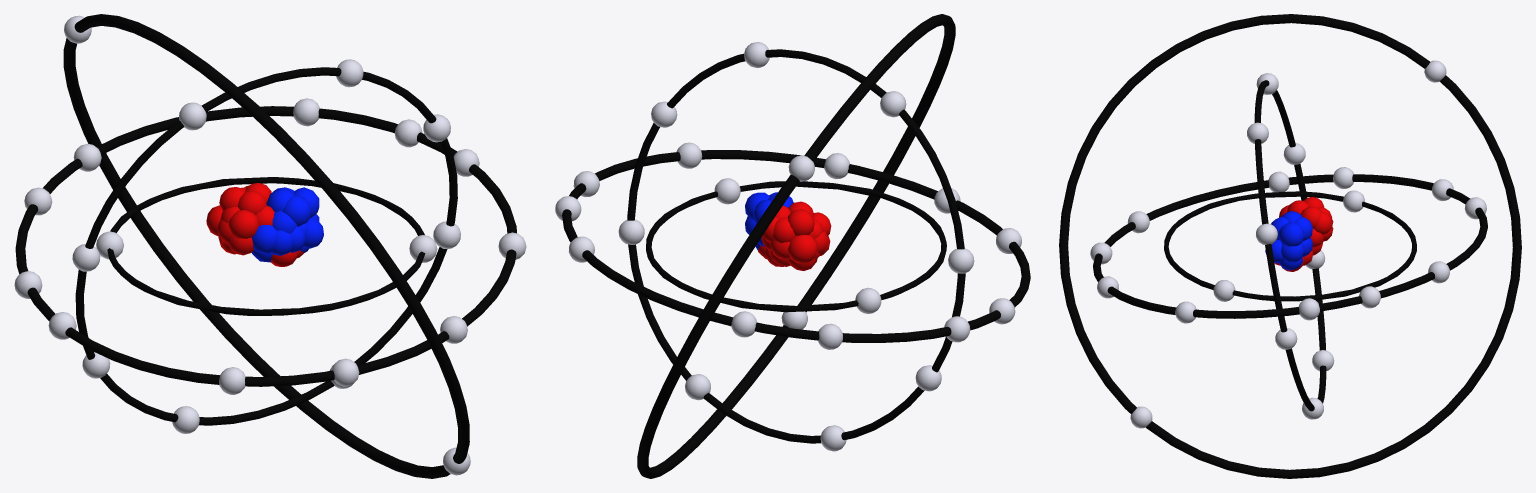
File: 23 Venadio.fbx
3 views of the same model, side by side, from view 1: azimuth 30°, elevation 25°; view 2: azimuth 150°, elevation 25°; view 3: azimuth 270°, elevation 25° (orthographic). The views are drawn at different scales.
Parts seen in each view (by area): view 1: Orbita.004, Orbita.003, Orbita.002, Orbita.001, Neutron.006, Neutron.004, Neutron.001, Sphere.013, Neutron.005, Electron.007, Electron.013, Electron.016 (+16 smaller); view 2: Orbita.004, Orbita.003, Orbita.002, Orbita.001, Neutron.005, Neutron.006, Sphere.008, Electron.004, Electron.001, Electron.009, Electron.017, Electron (+12 smaller); view 3: Orbita.004, Orbita.003, Orbita.002, Orbita.001, Neutron.006, Neutron.003.
Boxes of the visible parts, bbox=[...] form: Orbita.004: bbox=[63, 14, 469, 478]; Orbita.003: bbox=[15, 106, 516, 386]; Orbita.002: bbox=[75, 67, 457, 425]; Orbita.001: bbox=[107, 177, 425, 315]; Neutron.006: bbox=[272, 187, 319, 226]; Neutron.004: bbox=[266, 189, 297, 233]; Neutron.001: bbox=[251, 225, 276, 262]; Sphere.013: bbox=[228, 210, 258, 238]; Neutron.005: bbox=[206, 205, 236, 254]; Electron.007: bbox=[179, 102, 206, 130]; Electron.013: bbox=[219, 367, 245, 394]; Electron.016: bbox=[293, 98, 319, 126]; Orbita.004: bbox=[637, 14, 955, 478]; Orbita.003: bbox=[562, 150, 1030, 342]; Orbita.002: bbox=[627, 49, 965, 443]; Orbita.001: bbox=[646, 181, 946, 312]; Neutron.005: bbox=[788, 231, 828, 270]; Neutron.006: bbox=[745, 192, 793, 223]; Sphere.008: bbox=[787, 209, 814, 235]; Electron.004: bbox=[618, 219, 644, 244]; Electron.001: bbox=[855, 287, 881, 313]; Electron.009: bbox=[948, 248, 974, 273]; Electron.017: bbox=[731, 311, 757, 337]; Electron: bbox=[714, 178, 740, 204]; Orbita.004: bbox=[1059, 14, 1521, 478]; Orbita.003: bbox=[1093, 174, 1487, 318]; Orbita.002: bbox=[1254, 80, 1326, 411]; Orbita.001: bbox=[1164, 191, 1416, 301]; Neutron.006: bbox=[1271, 216, 1312, 246]; Neutron.003: bbox=[1279, 237, 1312, 270].
Bounding box in the file's own units: 14.15 × 12.46 × 12.82.
